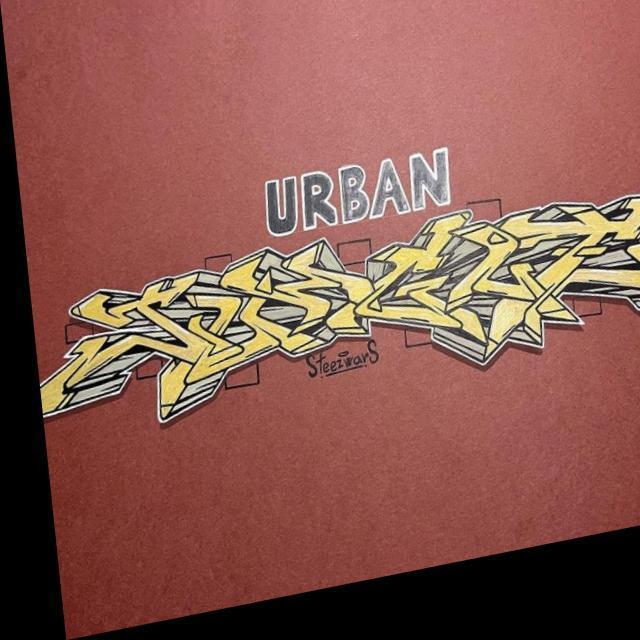-: (23, 184, 640, 456)
